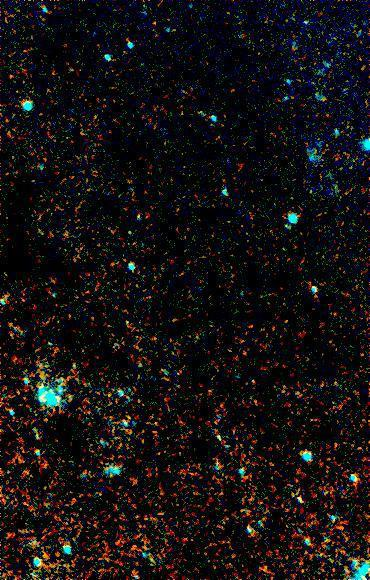star: (0, 317, 22, 347)
